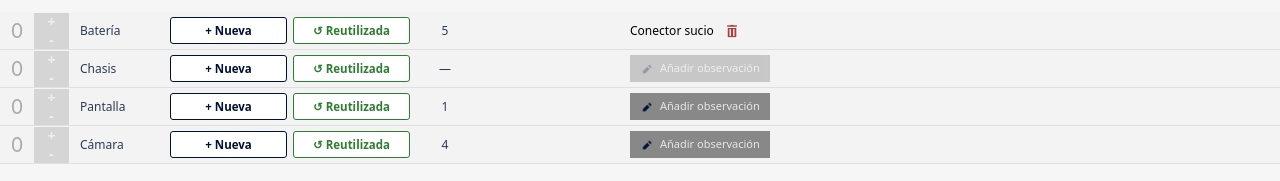
Scenario: FilaComponente (ficha docs/paridad/formulario.md · Filas de componente) › con observación: texto, papelera y sin botón de añadir; la papelera la borra sin confirmación
The image size is (1280, 181).
Click the button named "Borrar observación de Batería" at x=732, y=30, box x1=718 y1=18 x2=746 y2=42
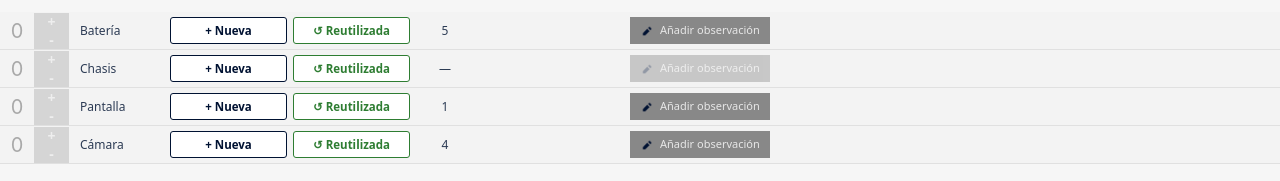
Result: the text "Conector sucio" is gone
Result: the button "Añadir observación" in the row of "Batería" is shown at x1=630 y1=17 x2=770 y2=44
